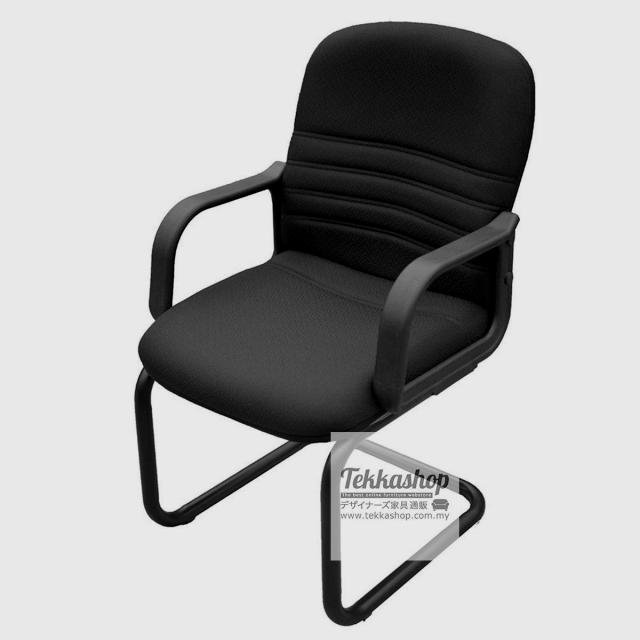Chair: (129, 18, 546, 628)
